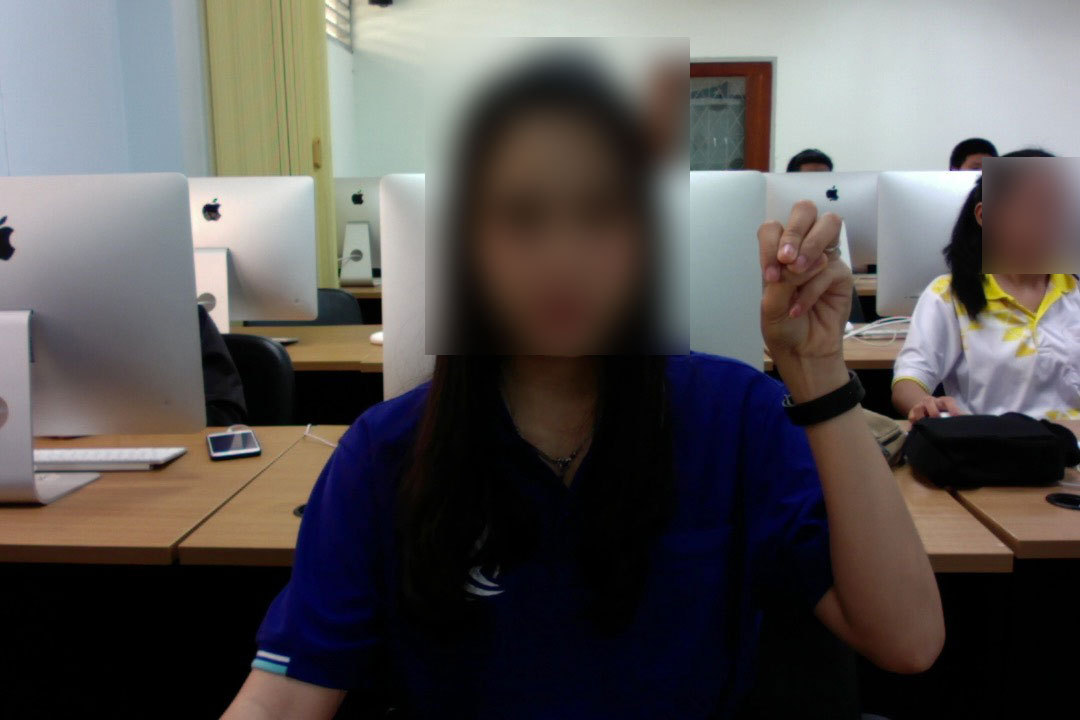mor: (746, 195, 865, 370)
